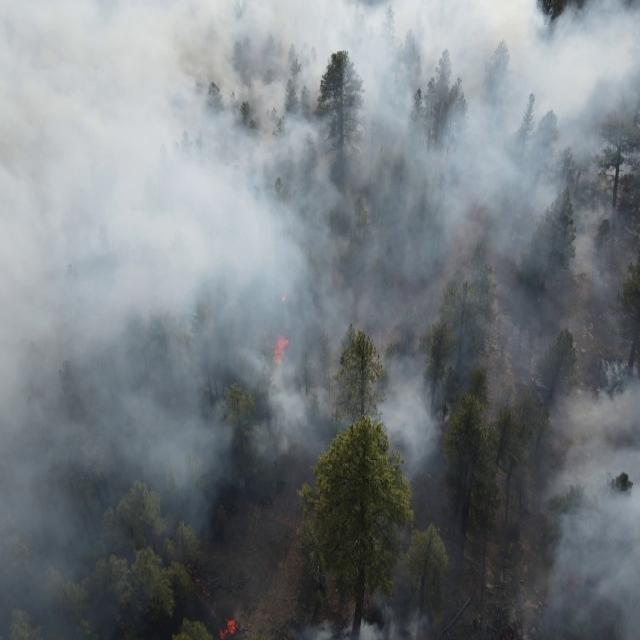fire: (184, 561, 216, 605), (273, 332, 291, 368), (217, 619, 239, 640), (281, 289, 292, 306)
smoke: (0, 0, 640, 420), (0, 420, 236, 536), (528, 421, 640, 634), (0, 535, 181, 640), (287, 599, 430, 640), (238, 421, 316, 470), (388, 422, 444, 472), (317, 423, 337, 447)
